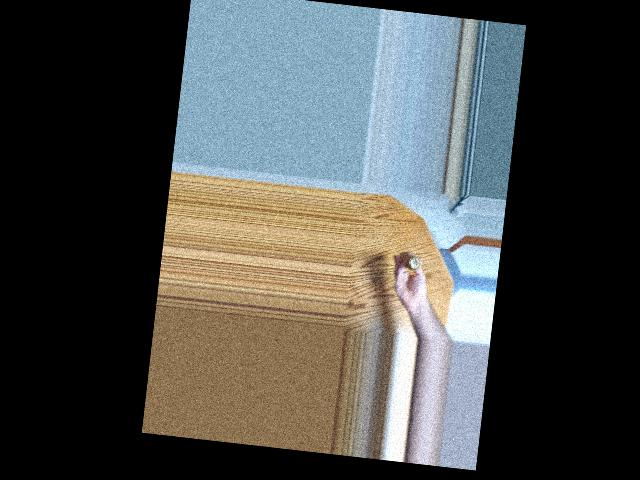sweet_potato: (396, 247, 426, 277)
